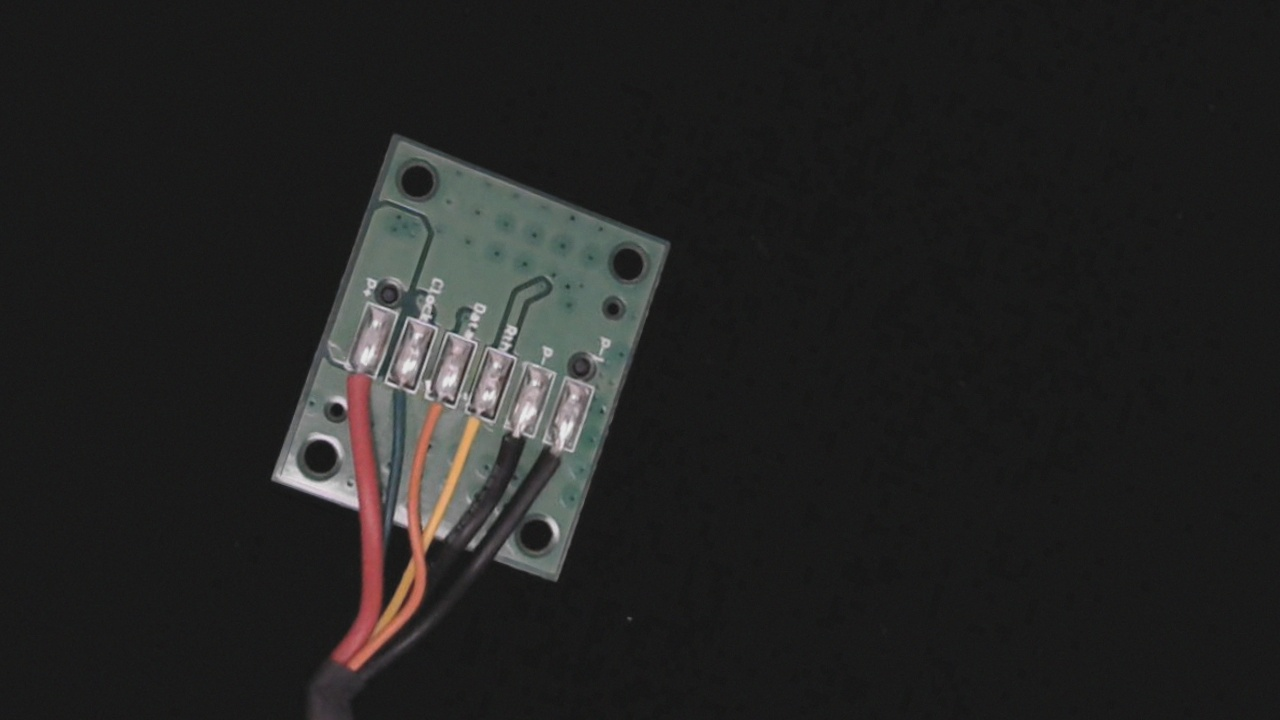Black: (484, 403, 545, 493)
Black1: (525, 420, 583, 503)
Green: (369, 353, 430, 440)
Orange: (404, 375, 463, 463)
Red: (329, 342, 389, 429)
Yellow: (443, 391, 505, 482)
